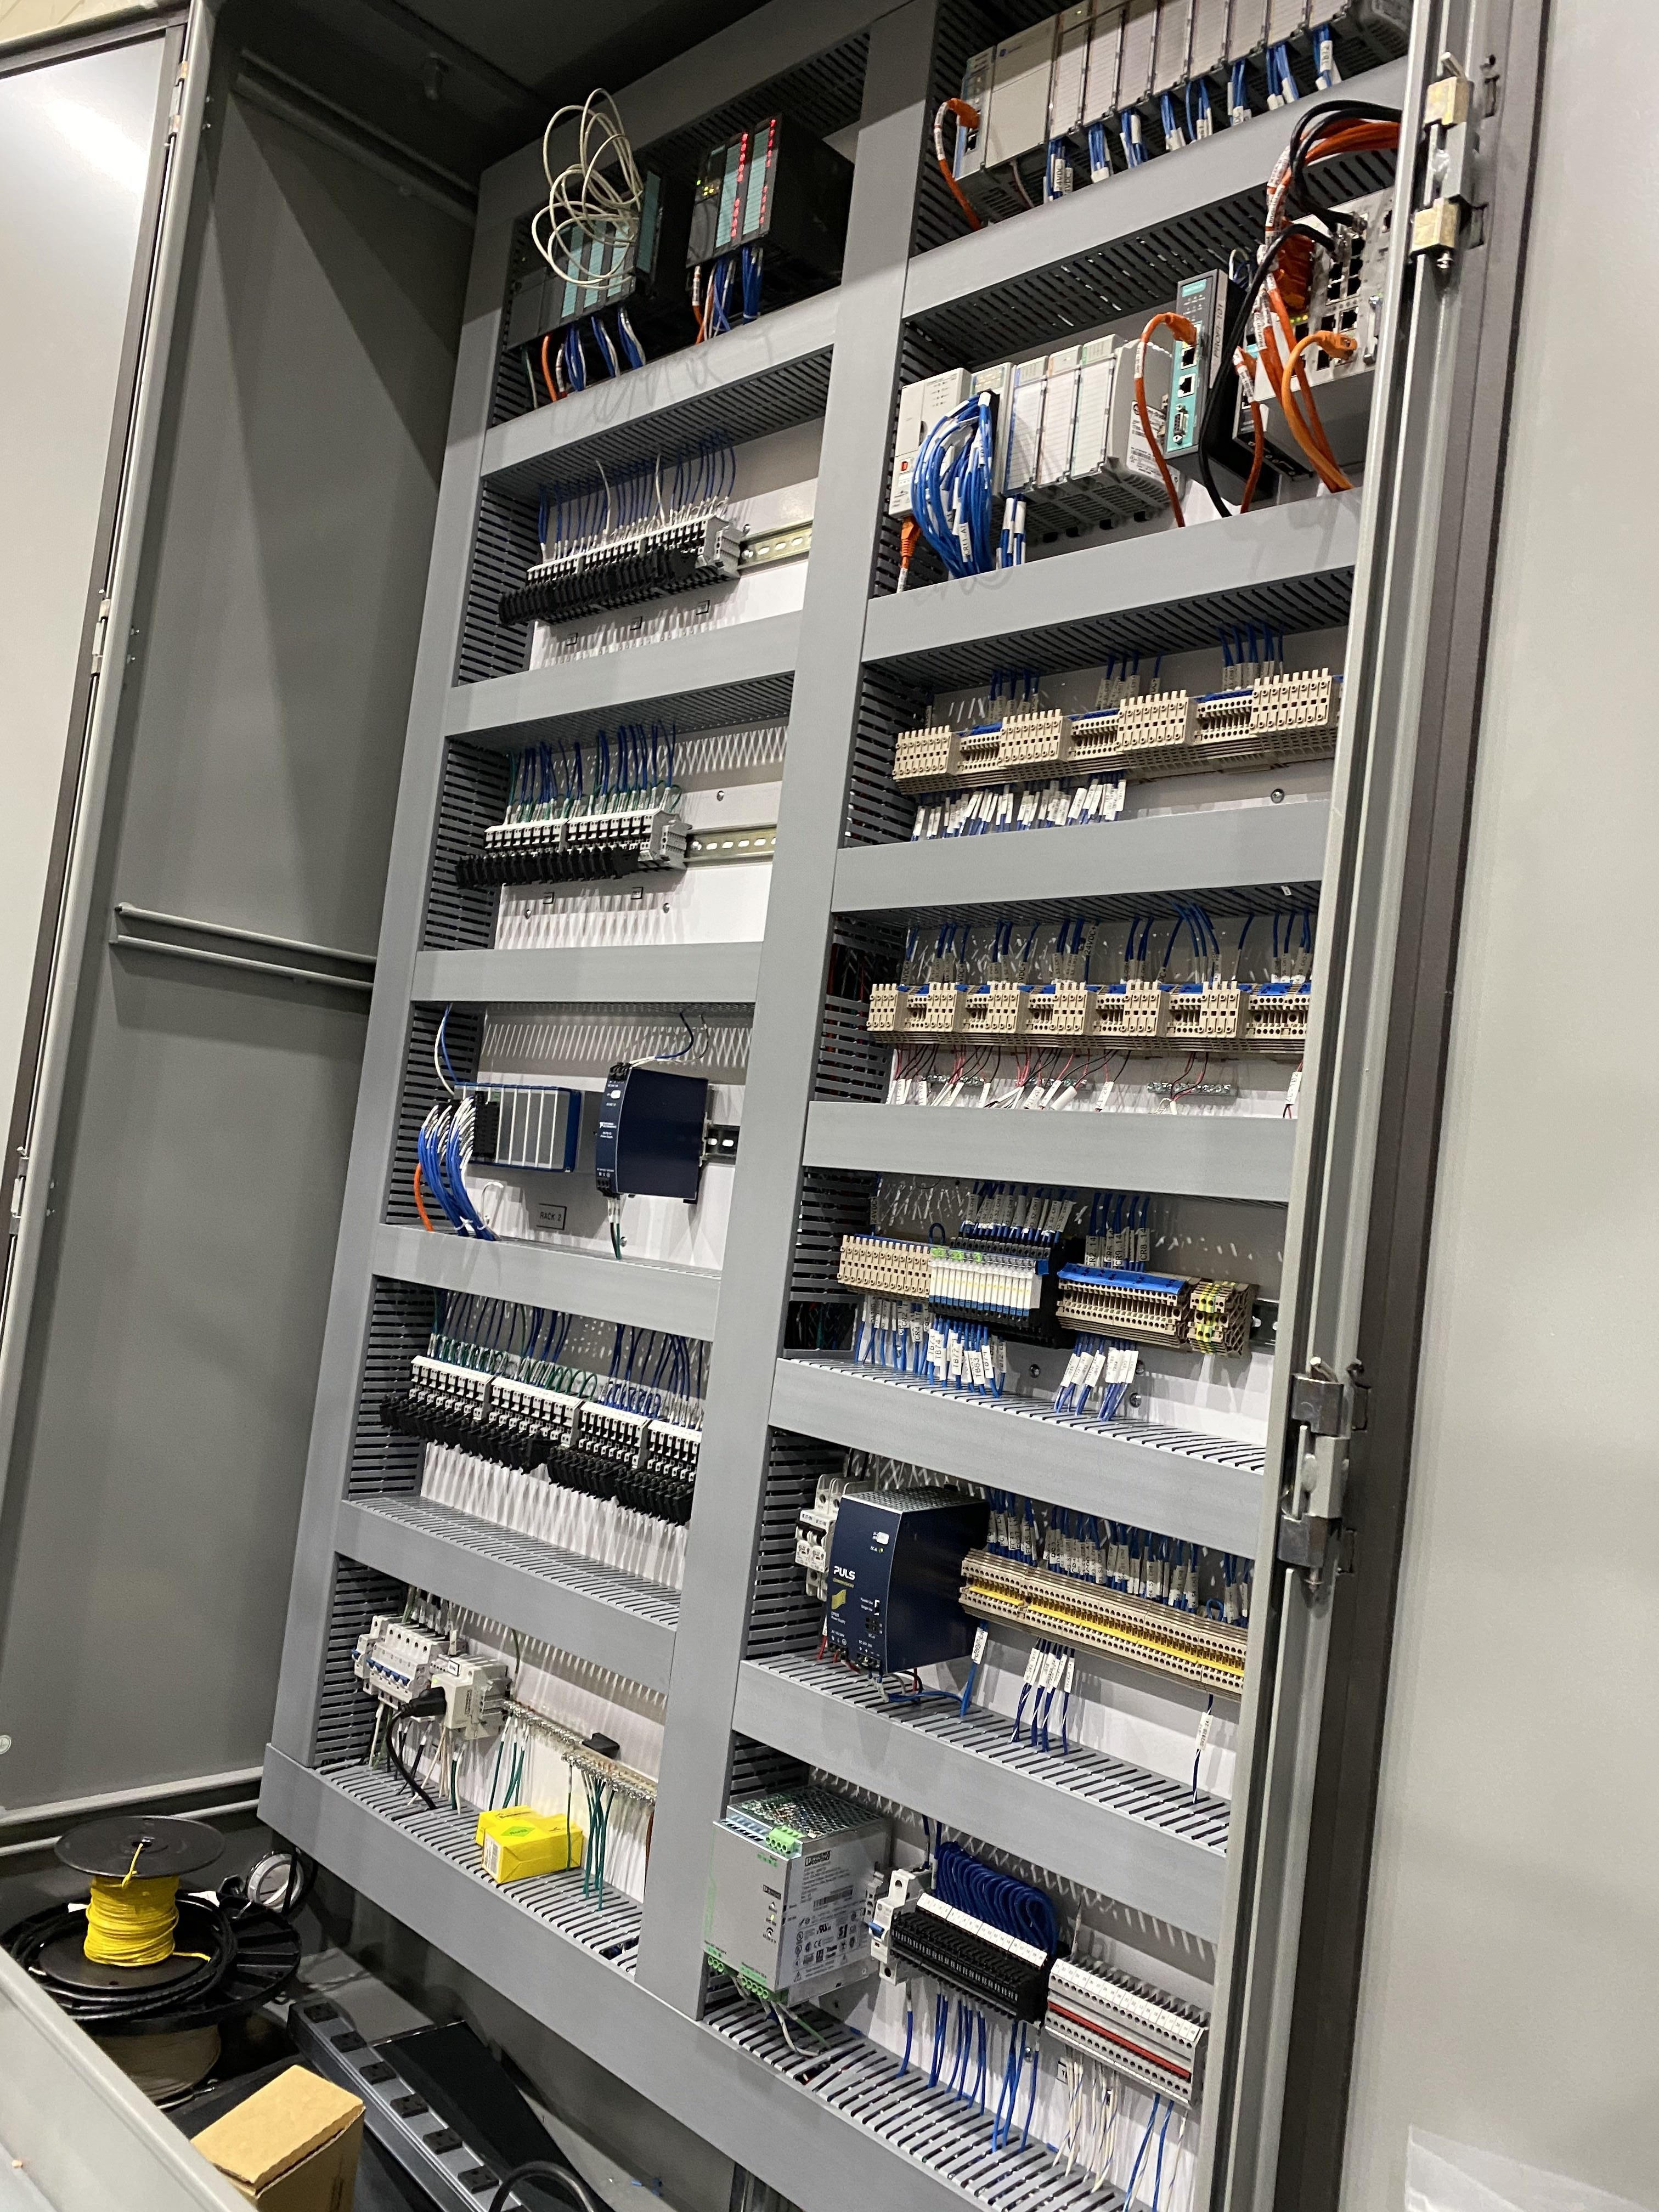AllenBradley: (885, 357, 965, 519)
Siemens: (533, 204, 582, 340)
